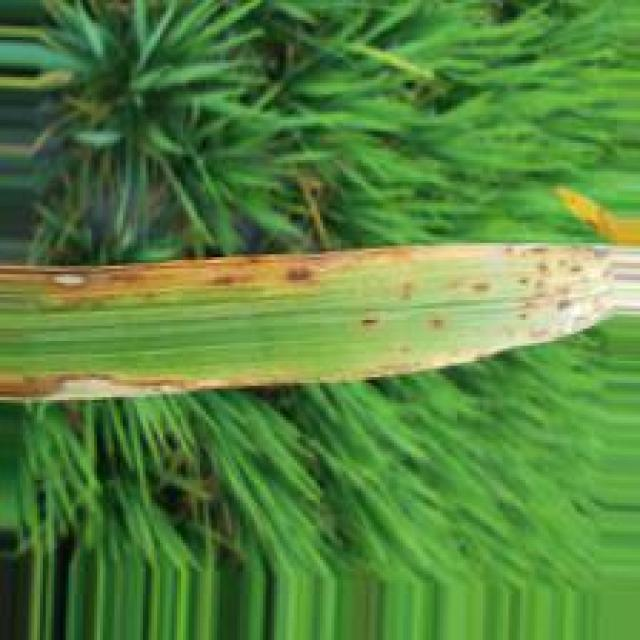Narrow_Brown_Leaf_Spot: (238, 243, 640, 383), (0, 243, 387, 301), (0, 369, 238, 397)
